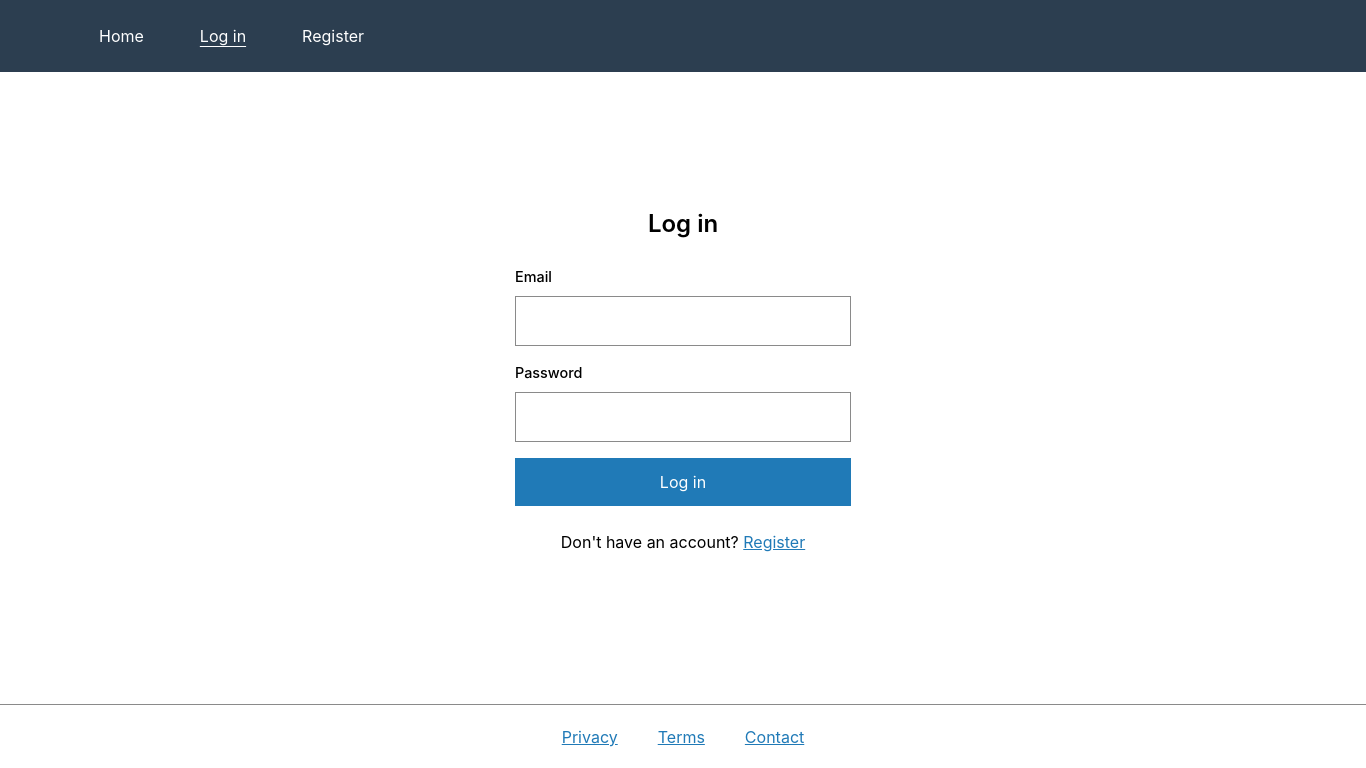
Authentication Flow Integration Tests › Login Flow › logs in, returns to the page that asked, and loads it with the new token
Type "test@example.com" into the field labelled "Email" at (683, 321), box [515, 296, 851, 346]
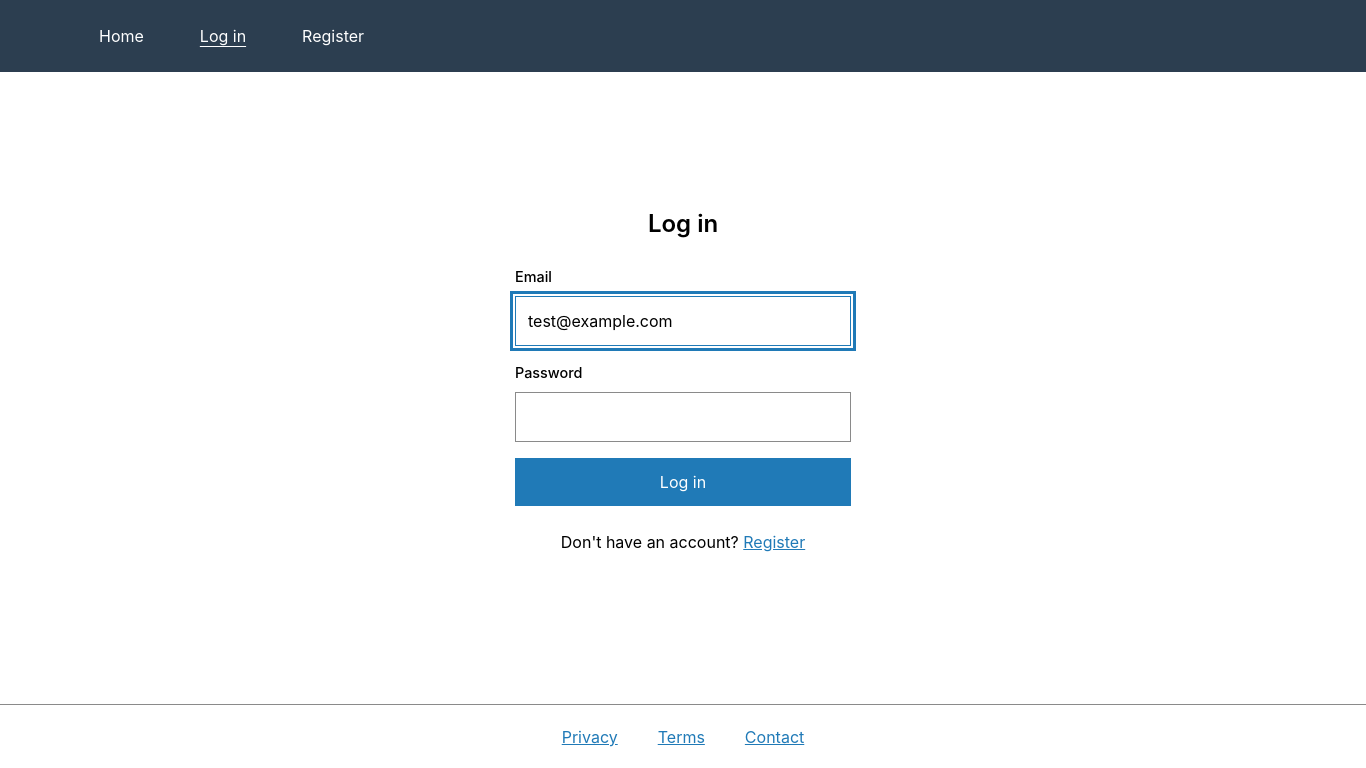
Type "Password123" into the password field labelled "Password" at (683, 417), box [515, 392, 851, 442]
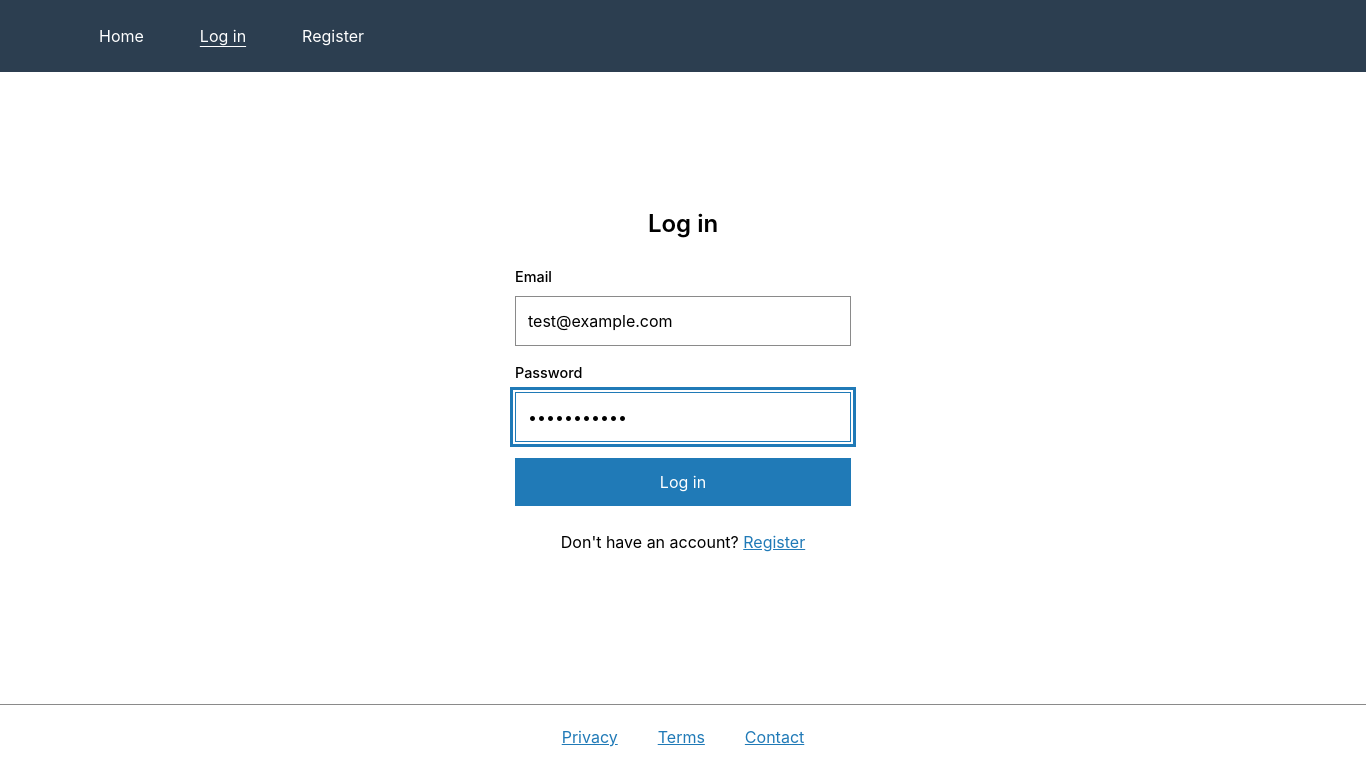
Click the button "Log in" at (683, 482), box [515, 458, 851, 506]
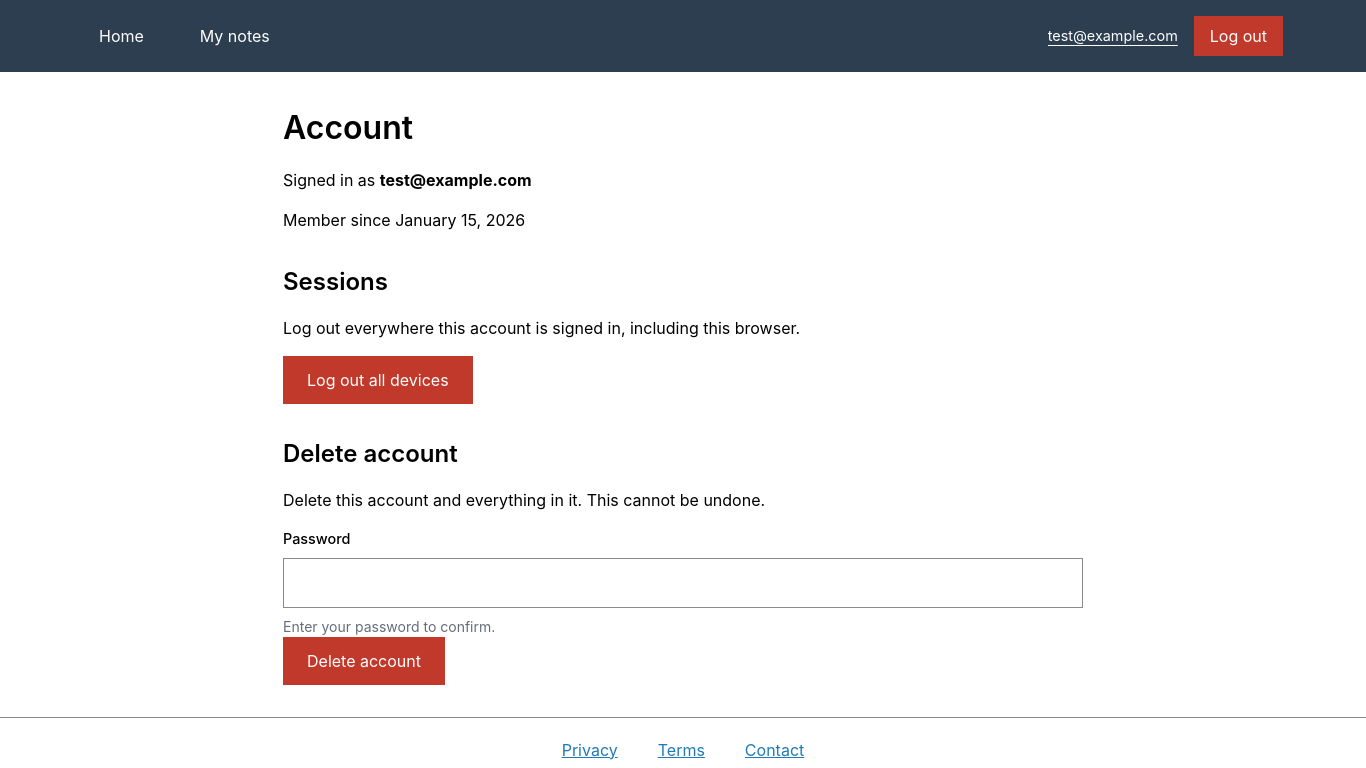
Check: the text "Member since January 15, 2026" is shown, box [283, 210, 525, 230]
Check: the heading "Account" is shown, box [283, 108, 413, 147]
